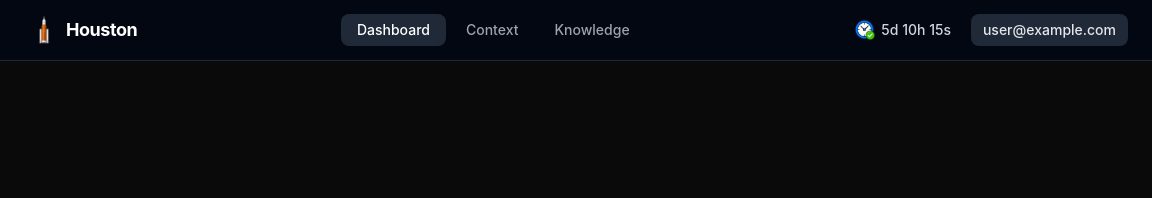
Header › includes manual mark-read savings and exposes the user menu
The width and height of the screenshot is (1152, 198).
expect the element titled "Celková úspora času" reads "5d 10h 15s": met, box [881,21,951,38]
Click the button "user@example.com" at {"x": 1049, "y": 30}, box [971,14,1128,46]
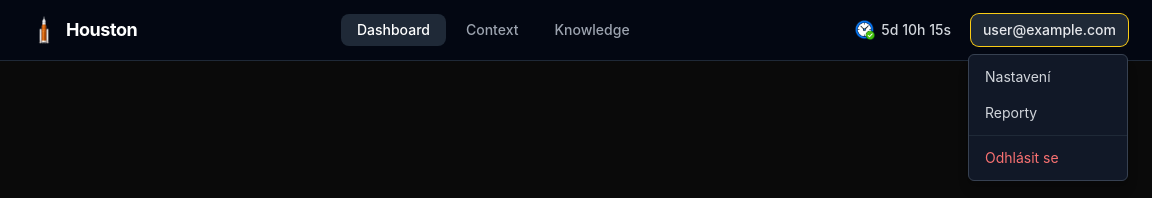
expect the menu item "Nastavení" is shown: met, box [985,68,1050,85]
expect the menu item "Reporty" is shown: met, box [985,104,1037,121]
expect the menu item "Odhlásit se" is shown: met, box [969,140,1127,176]
